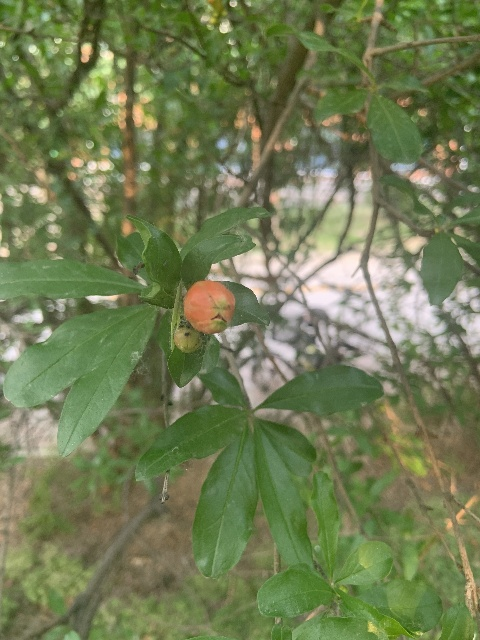bud: (183, 279, 236, 334), (174, 327, 202, 353)
